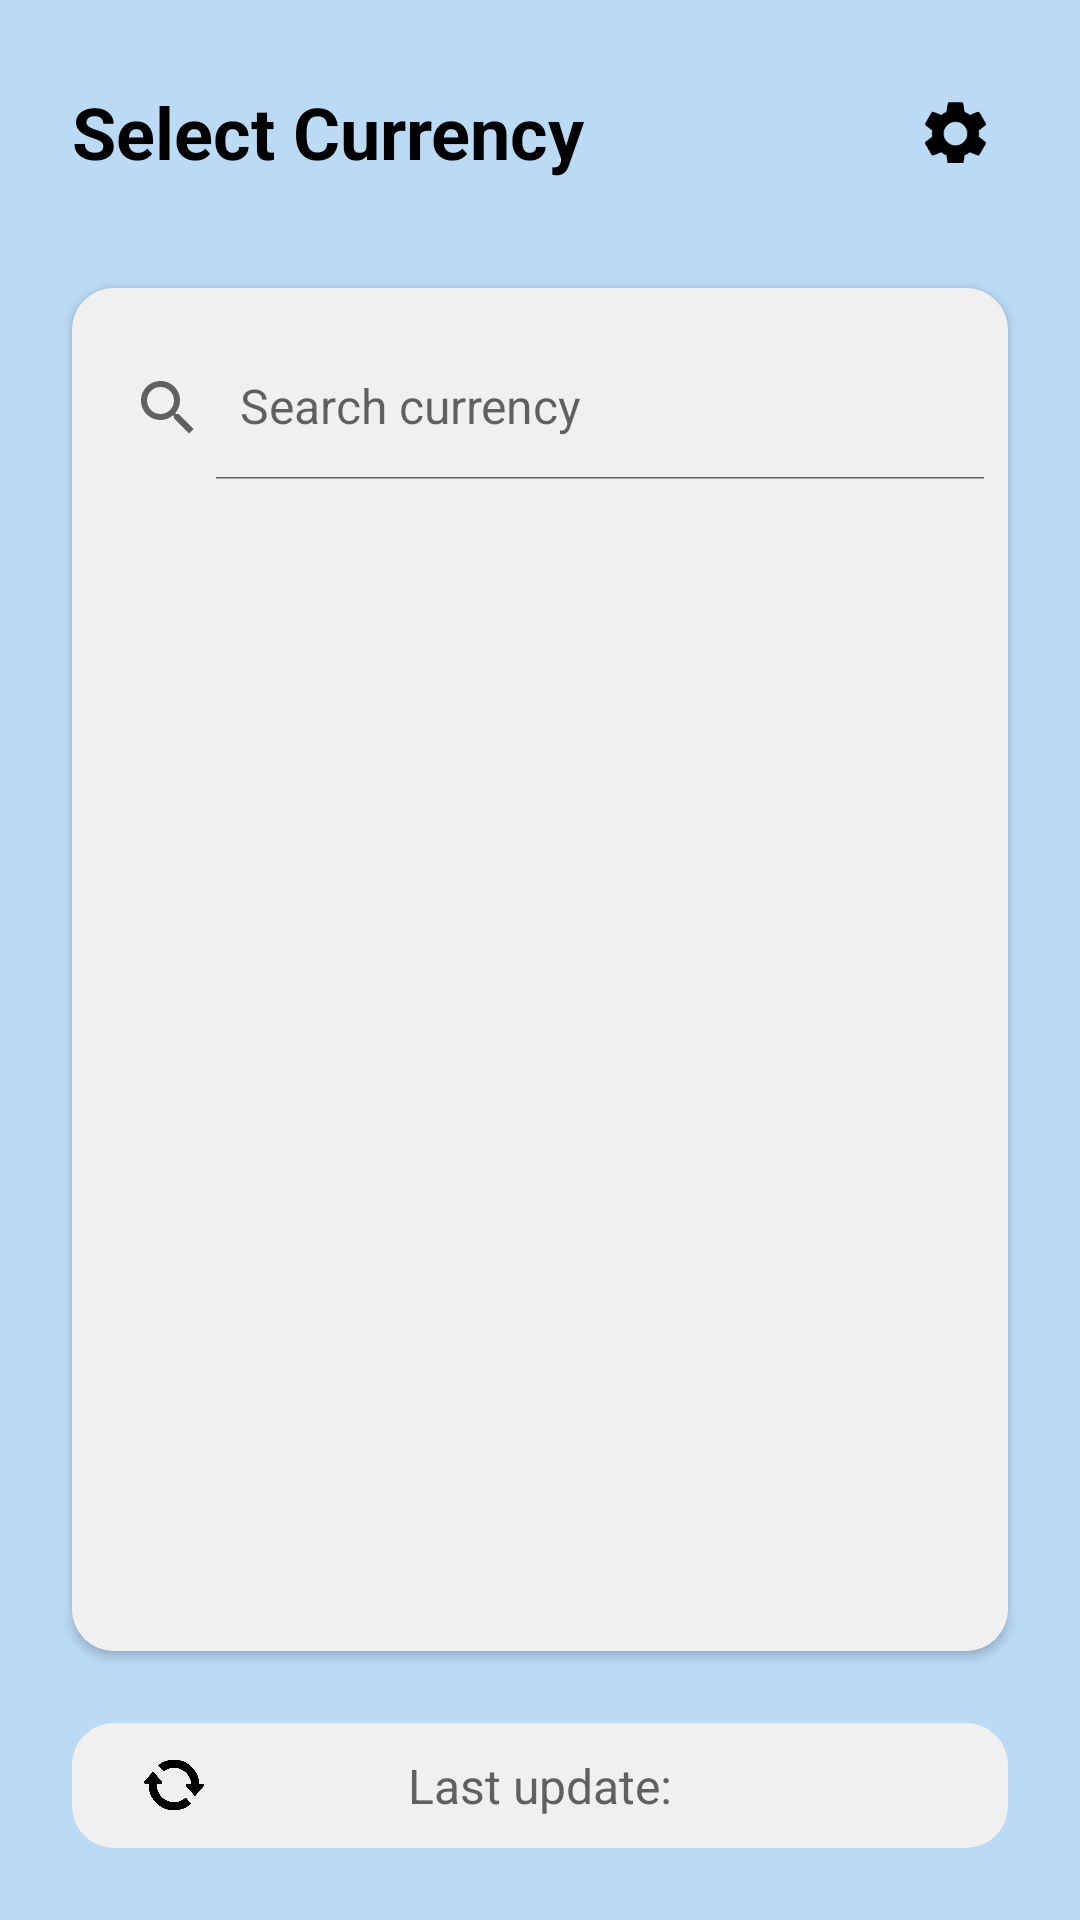

Screen size 1080×1920. Icon name, then its box in pixels as (x1, y1, x2, y2):
setting: (925, 102, 986, 163)
